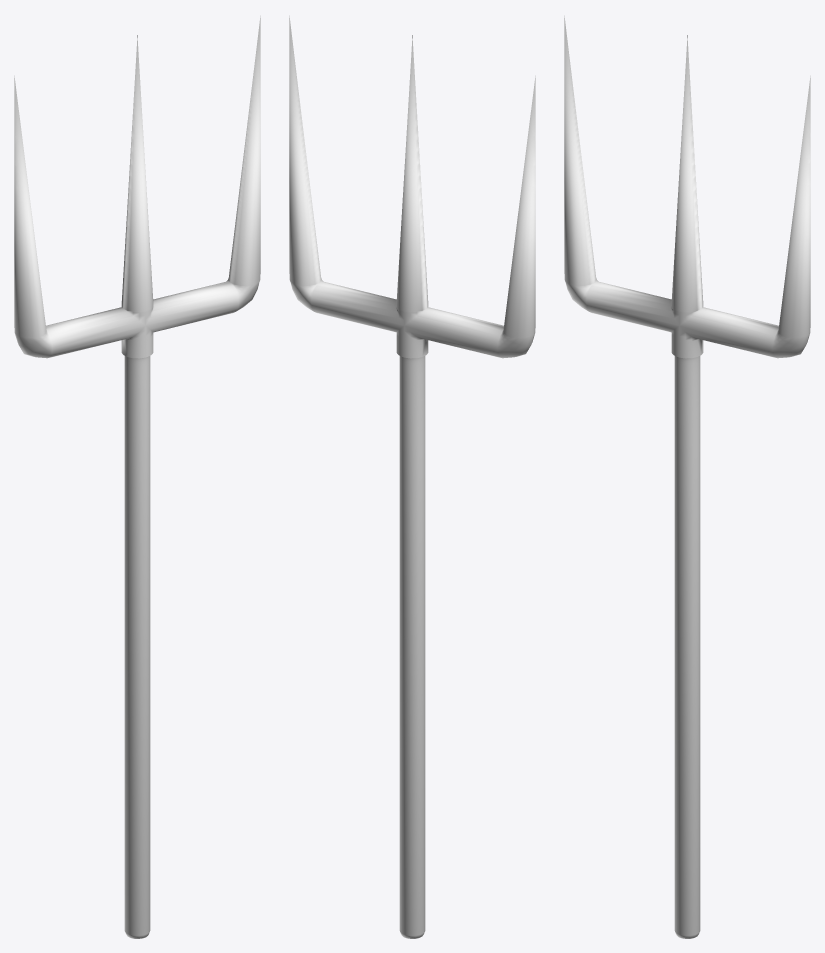
File: pitchfork.fbx
3 renders of one model, left to right at view 1: azimuth 30°, elevation 25°; view 2: azimuth 150°, elevation 25°; view 3: azimuth 330°, elevation 25°, orthographic.
Visible parts, largest first — view 1: pitchfork; view 2: pitchfork; view 3: pitchfork.
Part boxes in pixels (<box>): pitchfork: <box>14,15,260,938</box>; pitchfork: <box>289,15,535,938</box>; pitchfork: <box>564,15,810,938</box>.
Size of the model in its own units: 2192 by 7660 by 251.
